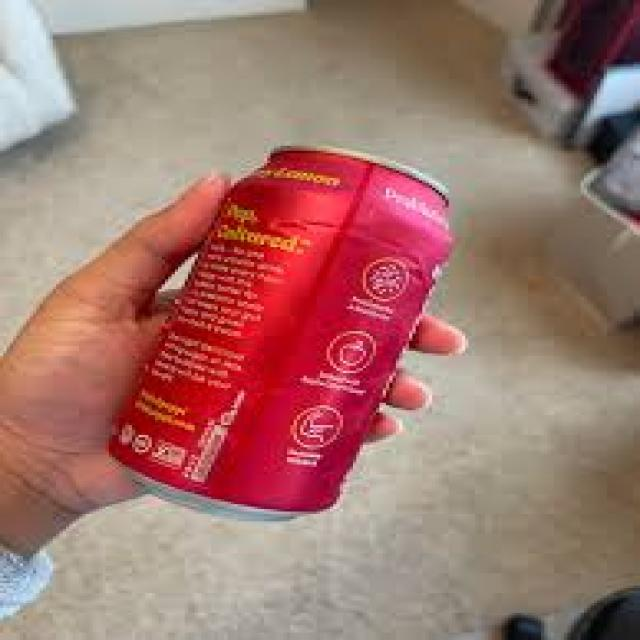Cans: (89, 134, 469, 526)
